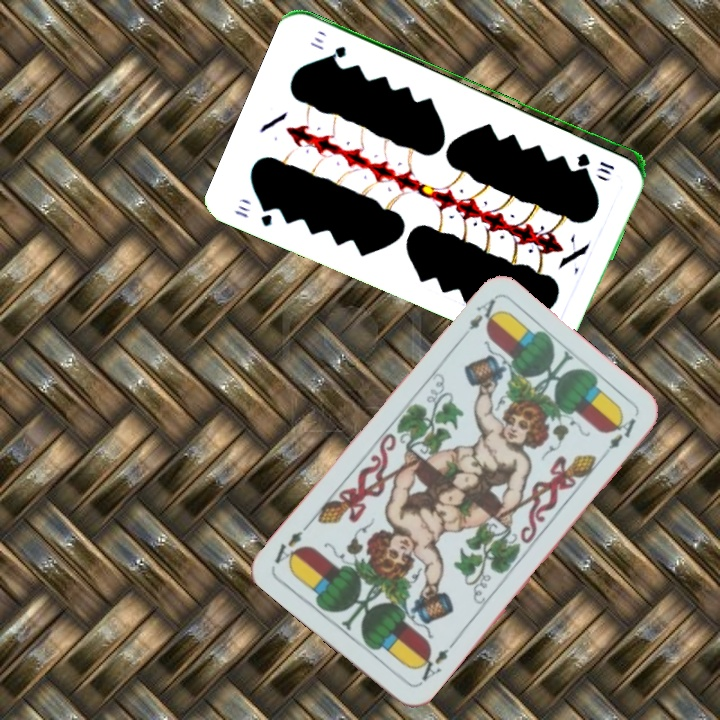EA: (411, 638, 457, 688), (457, 295, 503, 344)
G10: (230, 200, 276, 229), (573, 149, 617, 173)
